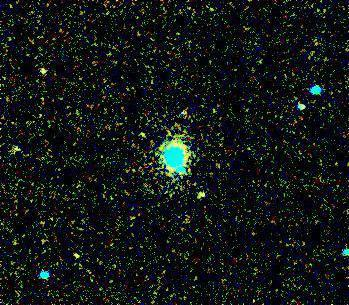star: (65, 244, 95, 274)
